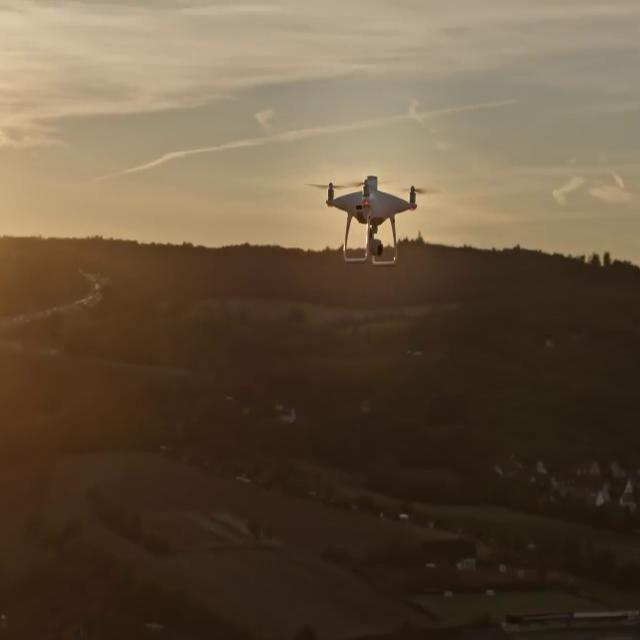drone: (301, 174, 443, 266)
